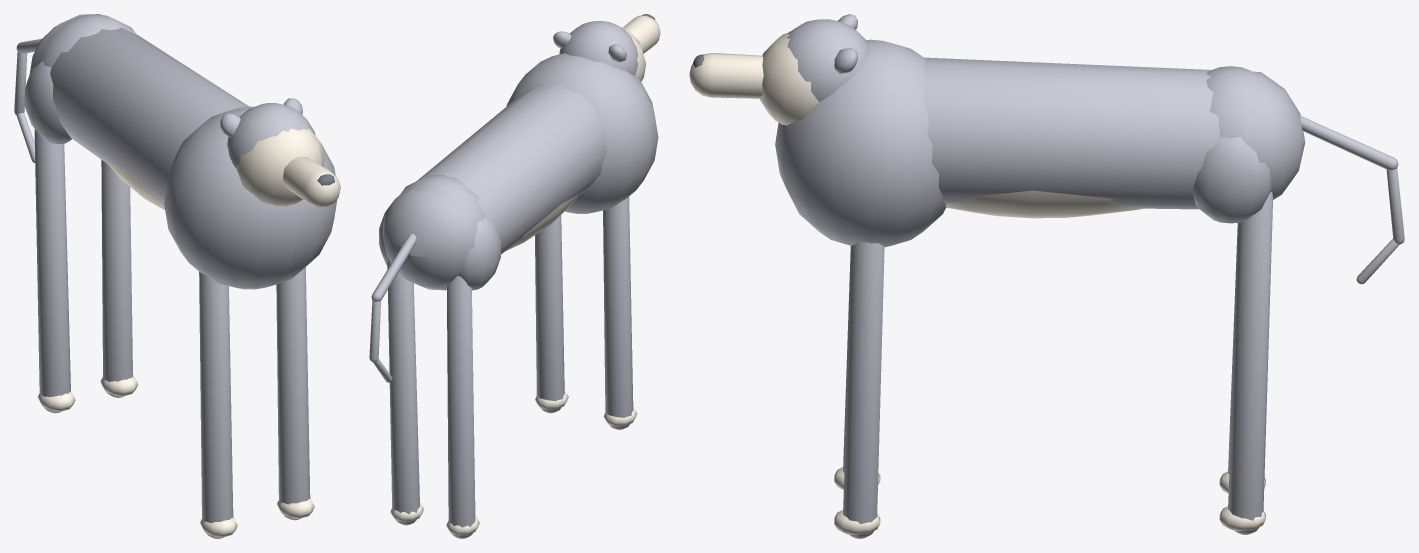
The model's file is companion-animals-and-pet-home-dog-greyhound-df1b9b51__20584.glb.
3 renders of one model, left to right at view 1: azimuth 30°, elevation 25°; view 2: azimuth 150°, elevation 25°; view 3: azimuth 270°, elevation 25°, orthographic. The views are drawn at different scales.
Parts seen in each view (by area): view 1: dog-greyhound; view 2: dog-greyhound; view 3: dog-greyhound.
Boxes of the visible parts, x1=… form: dog-greyhound: x1=14, y1=14, x2=340, y2=538; dog-greyhound: x1=369, y1=14, x2=660, y2=538; dog-greyhound: x1=689, y1=14, x2=1404, y2=538.
Bounding box in the file's own units: 0.27 × 0.7252 × 0.9554.
